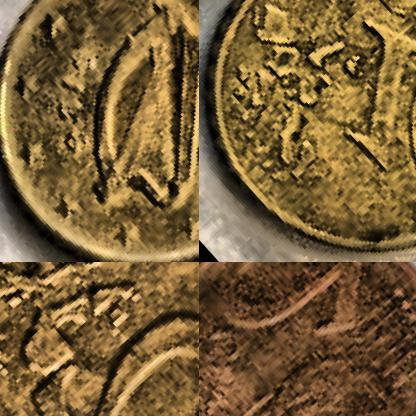coin: (199, 0, 415, 261), (0, 0, 198, 261), (199, 262, 415, 415), (0, 262, 198, 415)
